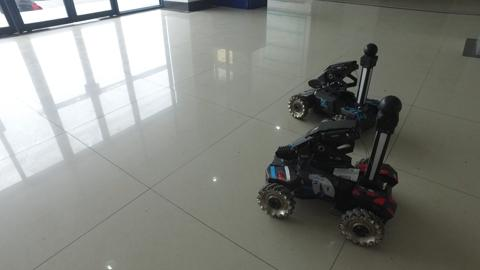chariot: (252, 95, 403, 252), (284, 39, 396, 140)
